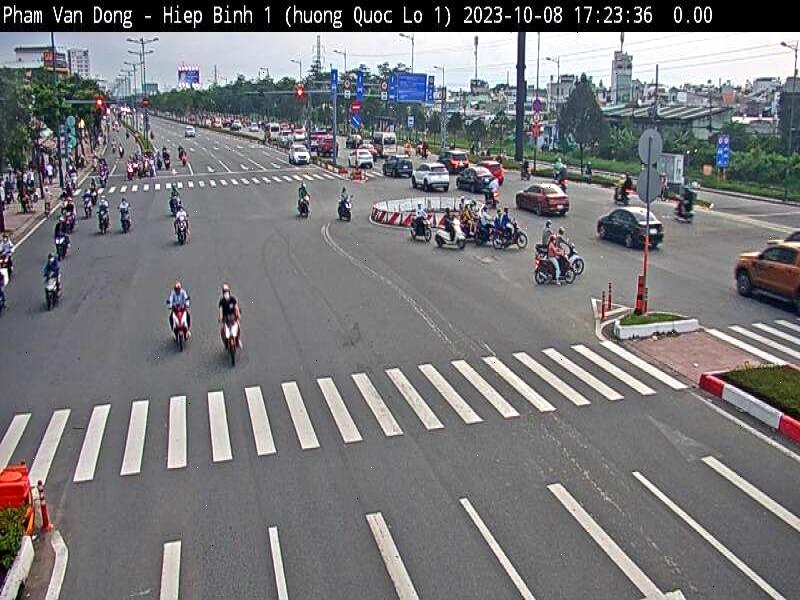car: (729, 230, 800, 305), (589, 203, 661, 252), (511, 174, 569, 222), (404, 159, 453, 197), (457, 162, 502, 195), (384, 146, 414, 182), (348, 138, 374, 169)
